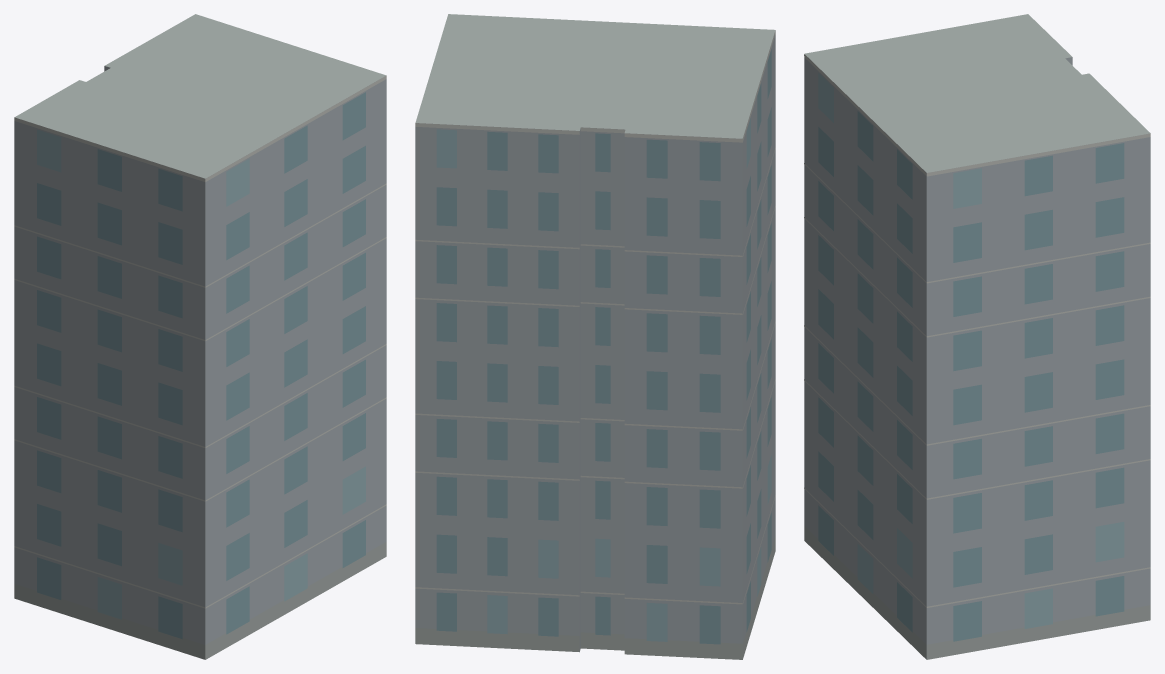
The model's file is survey-upis-32462467.glb.
The picture shows the model from 3 angles, left to right: view 1: azimuth 30°, elevation 25°; view 2: azimuth 150°, elevation 25°; view 3: azimuth 270°, elevation 25°; orthographic projection. The views are drawn at different scales.
Visible parts, largest first — view 1: survey-upis-32462467.tmp; view 2: survey-upis-32462467.tmp; view 3: survey-upis-32462467.tmp.
Part boxes in pixels (x1,y1,x2,y2): survey-upis-32462467.tmp: [14, 14, 386, 659]; survey-upis-32462467.tmp: [415, 14, 775, 659]; survey-upis-32462467.tmp: [804, 14, 1150, 659].
Size of the model in its own units: 23.13 by 33 by 21.31.
